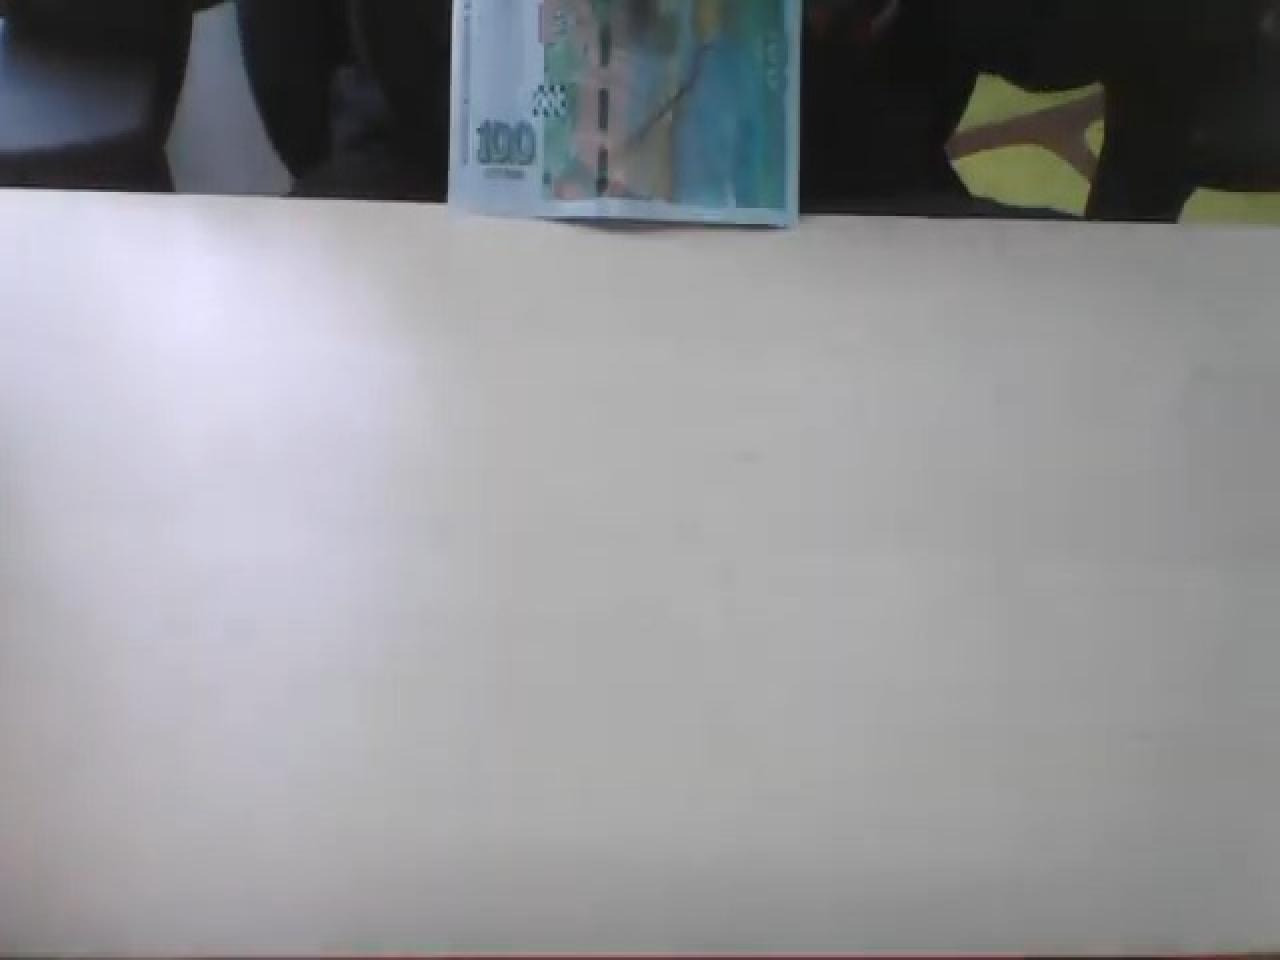100leva: (447, 0, 802, 227), (472, 112, 536, 168)
